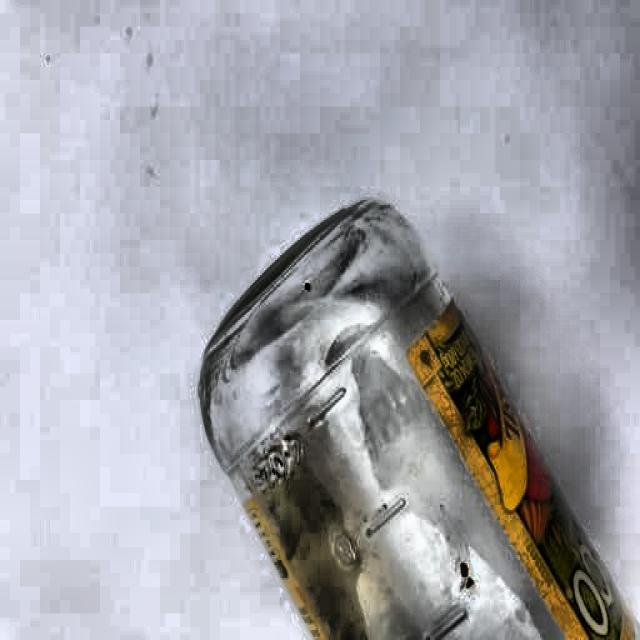glass: (189, 196, 640, 640)
